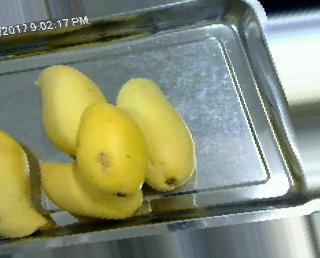Mango: (114, 76, 194, 191), (34, 64, 107, 157), (77, 103, 147, 196), (40, 162, 139, 218), (0, 128, 47, 236)
